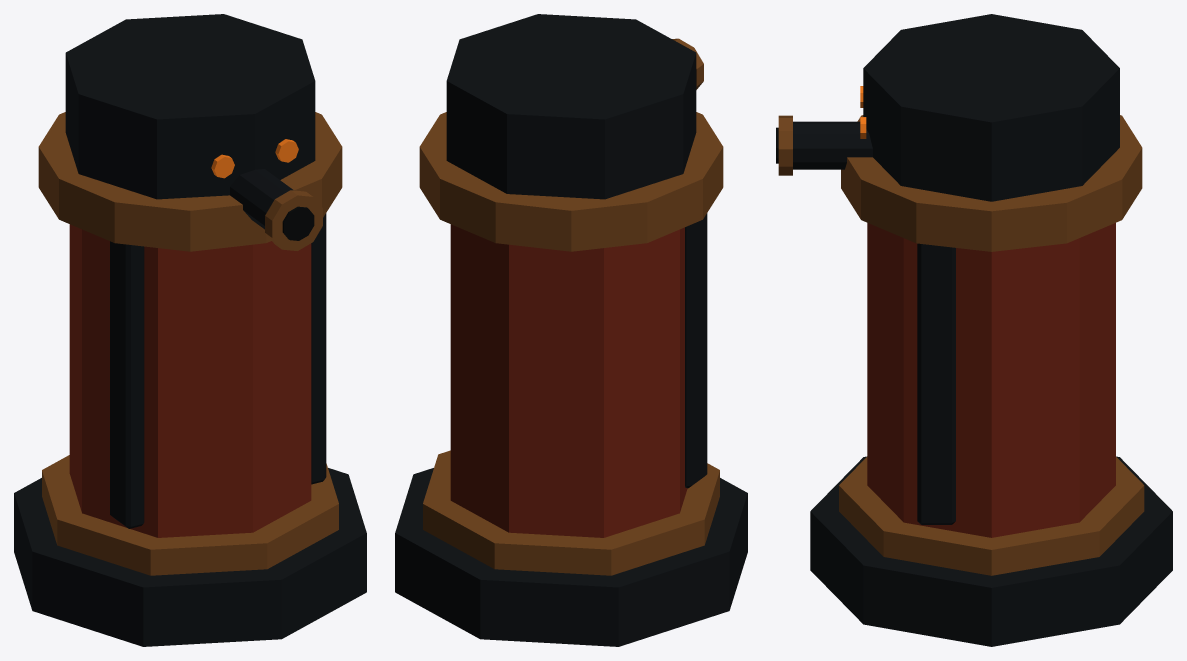
The model's file is defense-tower.glb.
3 renders of one model, left to right at view 1: azimuth 30°, elevation 25°; view 2: azimuth 150°, elevation 25°; view 3: azimuth 270°, elevation 25°, orthographic.
Visible parts, largest first — view 1: defense-tower; view 2: defense-tower; view 3: defense-tower.
Part boxes in pixels (x1,y1,x2,y2): defense-tower: (14,14,366,646); defense-tower: (395,14,747,646); defense-tower: (776,14,1172,646).
Bounding box in the file's own units: 1.78 × 2.72 × 1.95.
Materials: 1 (1 with a texture image).
